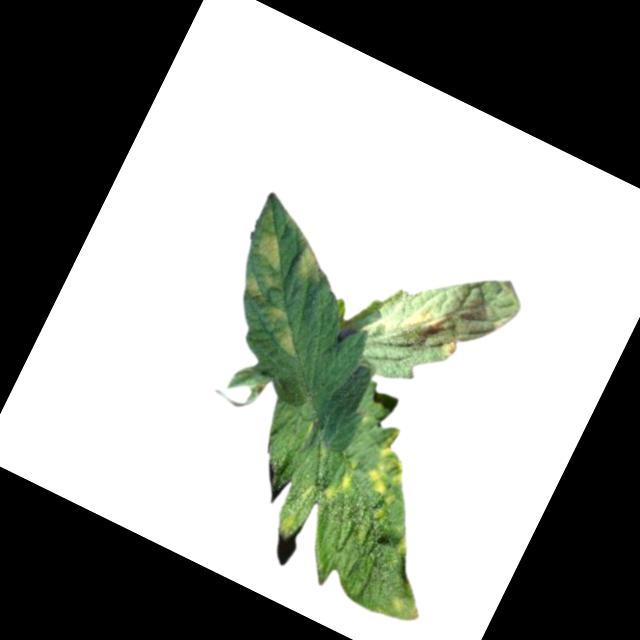Leaf_Mold: (360, 428, 430, 509), (395, 292, 470, 359), (252, 302, 315, 360), (246, 222, 300, 275), (289, 236, 339, 288), (371, 584, 424, 630), (319, 461, 358, 509), (238, 268, 276, 305)
